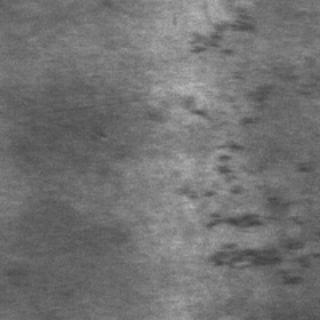rolled pit: (186, 105, 314, 282), (186, 0, 250, 54)
